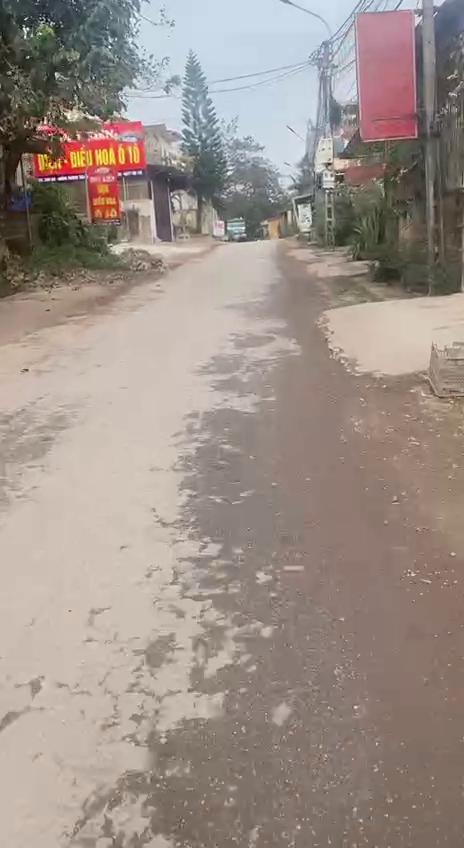pothole: (84, 755, 258, 848)
